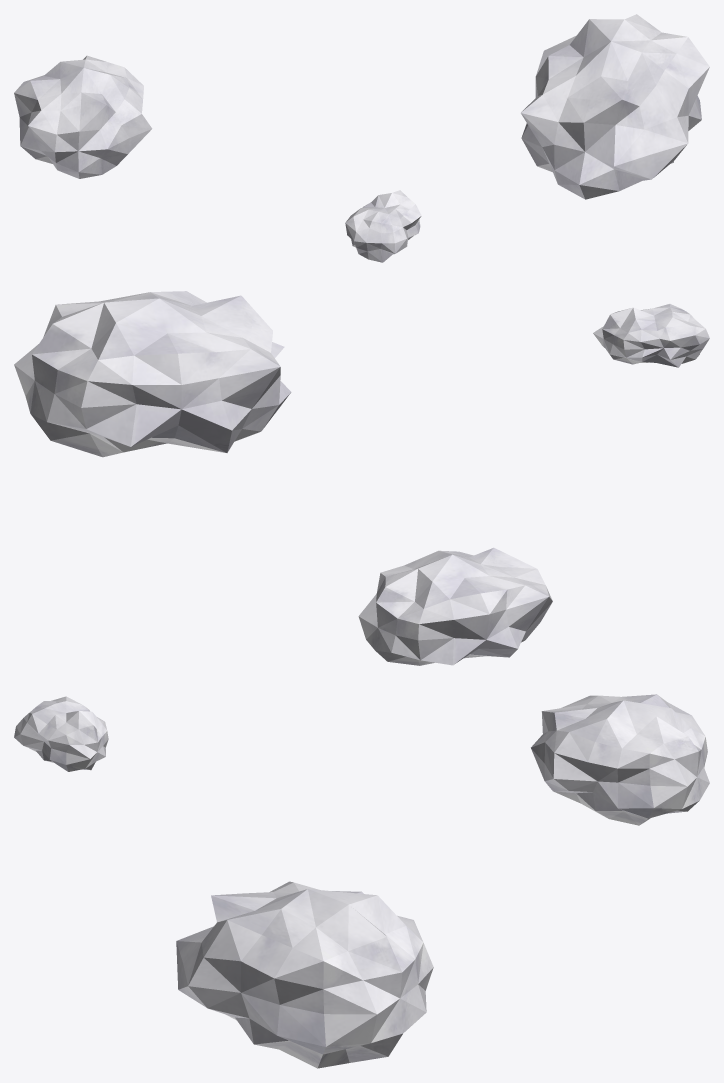
File: nube.obj
3 views of the same model, one above another, from view 1: azimuth 30°, elevation 25°; view 2: azimuth 150°, elevation 25°; view 3: azimuth 270°, elevation 25° (orthographic). The views are drawn at different scales.
Visible parts, largest first — view 1: clouds_pCube4, clouds_pCube3, pCube5_clouds; view 2: clouds_pCube4, clouds_pCube3, pCube5_clouds; view 3: clouds_pCube4, clouds_pCube3, pCube5_clouds.
Boxes of the visible parts, x1,y1,x2,y2 form: clouds_pCube4: (521, 14, 709, 199); clouds_pCube3: (14, 55, 152, 178); pCube5_clouds: (345, 190, 421, 262); clouds_pCube4: (14, 291, 291, 457); clouds_pCube3: (358, 547, 552, 665); pCube5_clouds: (593, 304, 709, 367); clouds_pCube4: (176, 881, 433, 1068); clouds_pCube3: (531, 694, 709, 825); pCube5_clouds: (14, 696, 108, 771).
Bounding box in the file's own units: 8.49 × 1.96 × 7.83.
